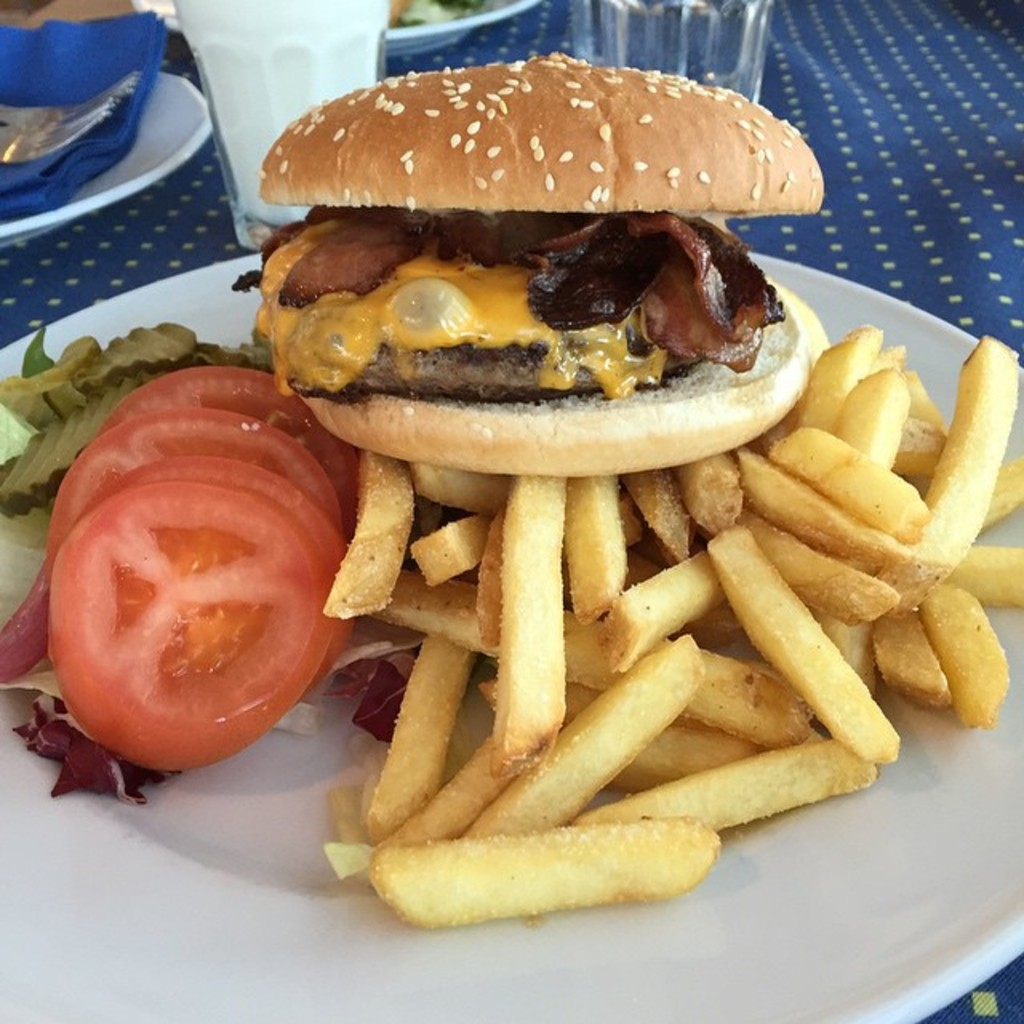French fries: (283, 273, 966, 928)
